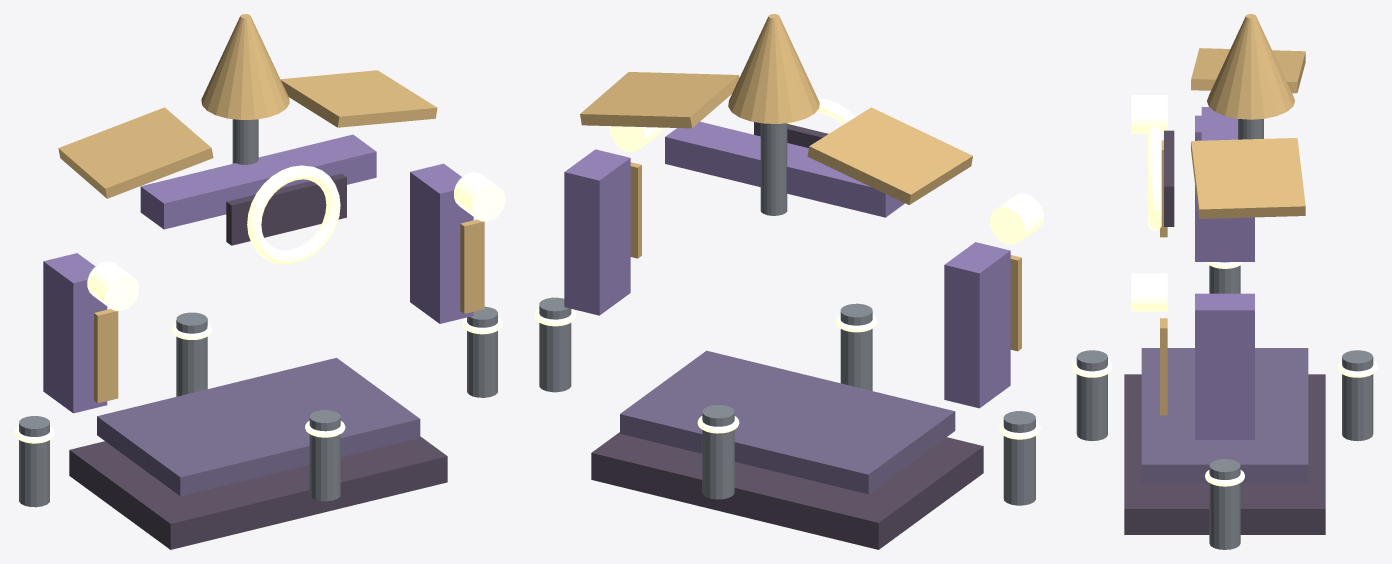
Rendered from asset.glb.
3 renders of one model, left to right at view 1: azimuth 30°, elevation 25°; view 2: azimuth 150°, elevation 25°; view 3: azimuth 270°, elevation 25°, orthographic. The views are drawn at different scales.
Visible parts, largest first — view 1: RaisedDeck, Foundation, CrossBeam, CanopyWing_-1, Pylon_-1, Pylon_1, CanopyWing_1, TopMarker, SignPanel, IdentityRing, Bollard_3, Bollard_2 (+7 smaller); view 2: RaisedDeck, Foundation, Pylon_1, Pylon_-1, CanopyWing_-1, CrossBeam, CanopyWing_1, TopMarker, Bollard_2, Bollard_1, Bollard_0, CenterMast (+6 smaller); view 3: RaisedDeck, Foundation, Pylon_1, CanopyWing_1, TopMarker, Bollard_1, Bollard_3, Bollard_0, CanopyWing_-1, Pylon_-1, CrossBeam, Lamp_1 (+6 smaller).
Part boxes in pixels (x1,y1,x2,y2): RaisedDeck: [97, 358, 420, 496]; Foundation: [69, 436, 447, 549]; CrossBeam: [140, 134, 376, 229]; CanopyWing_-1: [58, 107, 213, 198]; Pylon_-1: [43, 253, 107, 413]; Pylon_1: [410, 163, 473, 323]; CanopyWing_1: [280, 70, 437, 127]; TopMarker: [201, 14, 289, 119]; SignPanel: [226, 173, 346, 245]; IdentityRing: [247, 165, 340, 264]; Bollard_3: [309, 410, 340, 501]; Bollard_2: [19, 416, 49, 507]; RaisedDeck: [620, 350, 955, 494]; Foundation: [591, 432, 983, 549]; Pylon_1: [564, 149, 630, 315]; Pylon_-1: [944, 242, 1010, 408]; CanopyWing_-1: [807, 107, 972, 204]; CrossBeam: [665, 121, 904, 217]; CanopyWing_1: [580, 72, 739, 128]; TopMarker: [728, 14, 819, 123]; Bollard_2: [1003, 411, 1035, 505]; Bollard_1: [702, 405, 734, 499]; Bollard_0: [539, 297, 571, 392]; CenterMast: [760, 123, 787, 215]; RaisedDeck: [1141, 348, 1308, 483]; Foundation: [1124, 374, 1325, 534]; Pylon_1: [1195, 293, 1254, 439]; CanopyWing_1: [1191, 138, 1305, 218]; TopMarker: [1207, 14, 1294, 119]; Bollard_1: [1342, 350, 1373, 441]; Bollard_3: [1076, 350, 1107, 441]; Bollard_0: [1209, 459, 1240, 549]; CanopyWing_-1: [1191, 48, 1305, 93]; Pylon_-1: [1195, 115, 1254, 261]; CrossBeam: [1201, 107, 1248, 236]; Lamp_1: [1131, 273, 1167, 311].
Bounding box in the file's own units: 4.27 × 3.83 × 2.35.
